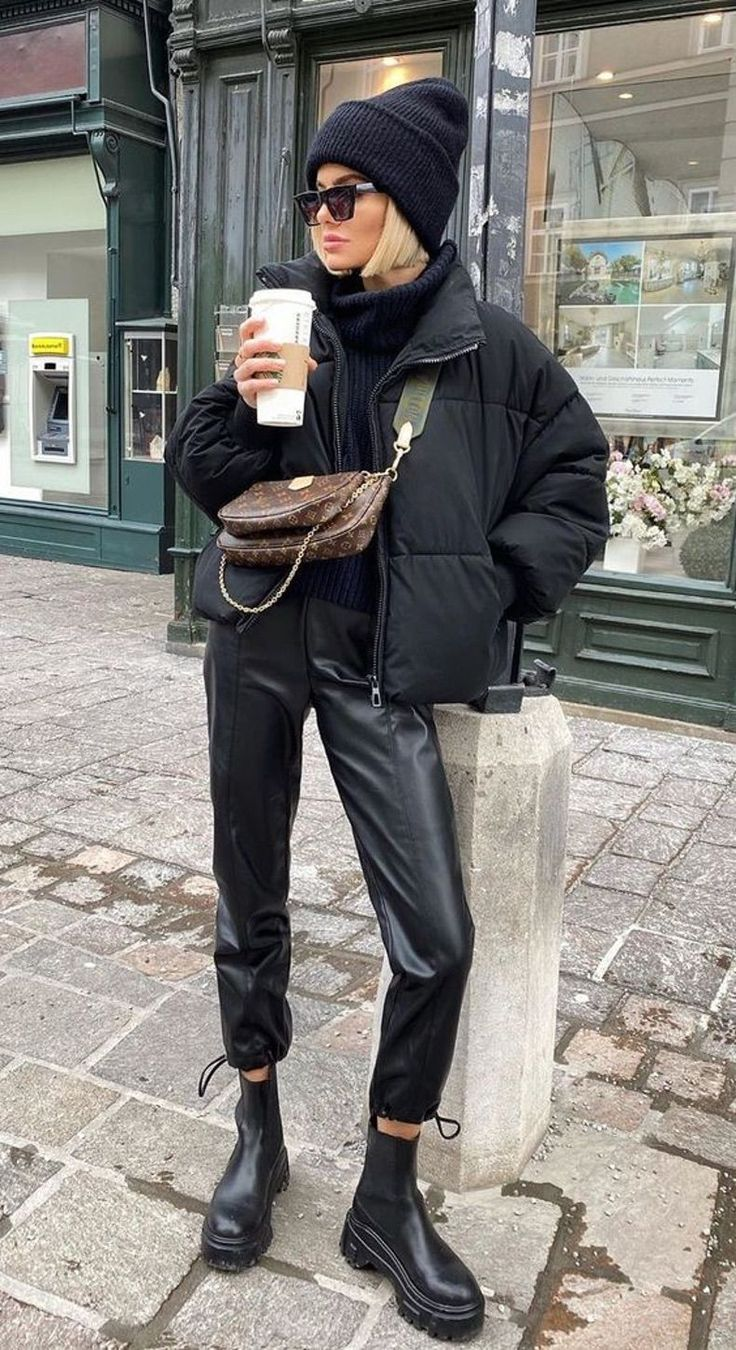cuero: (203, 1070, 486, 1342)
